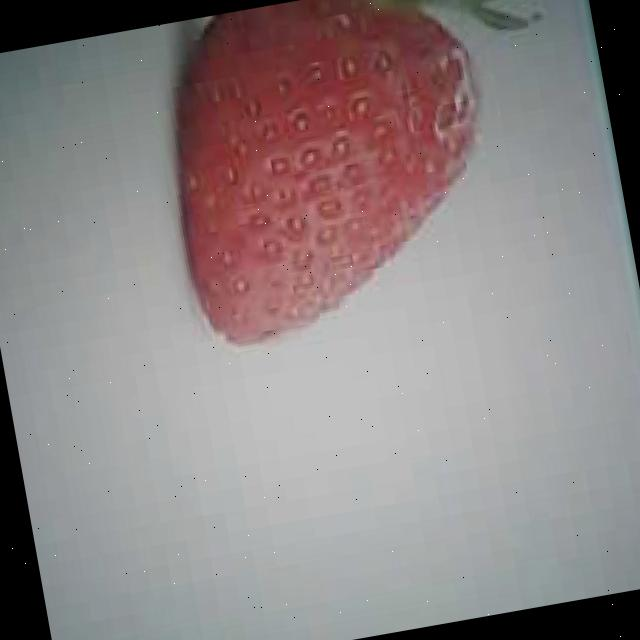strawberry: (151, 0, 513, 350)
